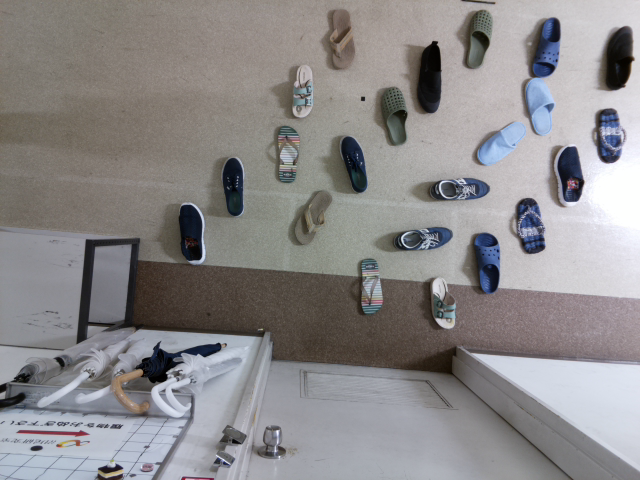Copy of Copy of Copy of Copy of Copy of Copy of Copy of Copy of Copy of Copy of: (589, 17, 640, 95), (469, 115, 534, 170), (410, 33, 451, 119), (518, 10, 565, 81), (545, 139, 590, 213), (588, 99, 633, 172), (507, 190, 552, 263), (387, 216, 460, 260), (422, 168, 495, 212), (372, 78, 415, 150), (515, 71, 560, 138), (456, 3, 495, 76)
Copy of Copy of Copy of Copy of Copy of Copy of Copy of Copy of Copy of shoe: (466, 224, 508, 298)
Copy of Copy of Copy of Copy of Copy of Copy of Copy of Copy of shoe: (422, 270, 463, 334)
Copy of Copy of Copy of Copy of Copy of Copy of Copy of shoe: (348, 253, 388, 320)
Copy of Copy of Copy of Copy of Copy of Copy of shoe: (288, 182, 335, 252)
Copy of Copy of Copy of Copy of Copy of shoe: (333, 130, 372, 197)
Copy of Copy of Copy of Copy of Copy of umbrella: (1, 314, 139, 406)
Copy of Copy of Copy of Copy of shoe: (322, 4, 360, 72)
Copy of Copy of Copy of Copy of umbrella: (35, 323, 146, 410)
Copy of Copy of Copy of shoe: (287, 60, 316, 123)
Copy of Copy of Copy of umbrella: (70, 324, 162, 413)
Copy of Copy of shoe: (269, 119, 305, 190)
Copy of Copy of umbrella: (106, 337, 231, 417)
Copy of shoe: (216, 149, 249, 222)
Copy of umbrella: (160, 351, 260, 420)
shoe: (172, 198, 211, 273)
umbrella: (141, 338, 259, 420)
